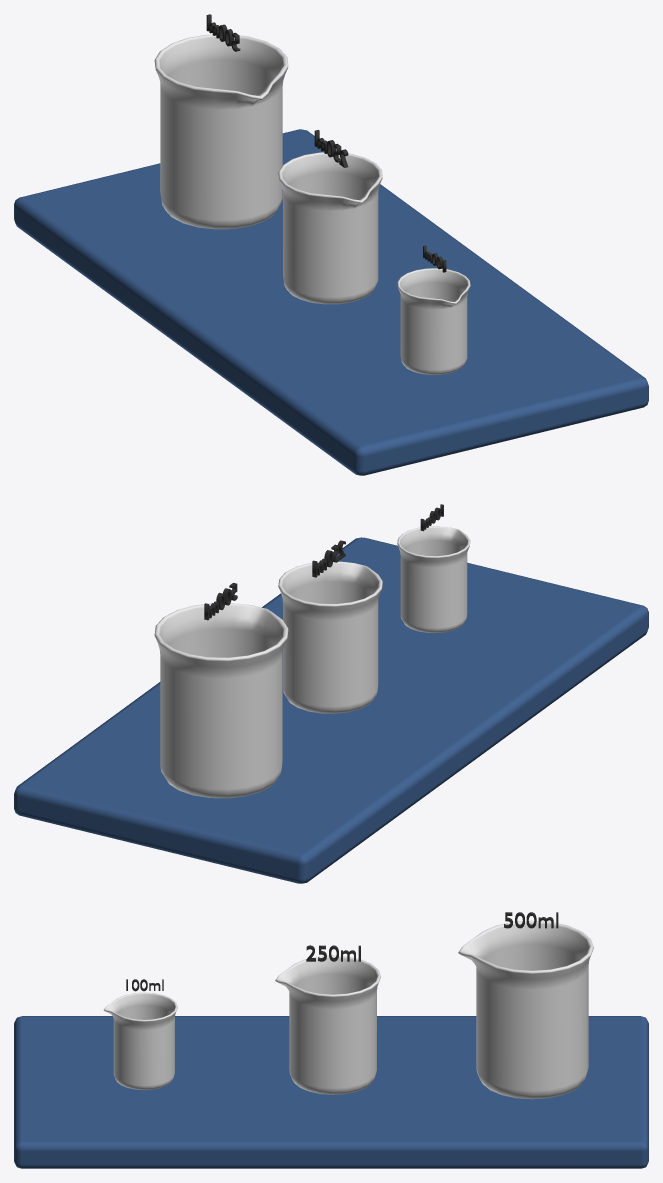
File: beakers.gltf
3 views of the same model, one above another, from view 1: azimuth 30°, elevation 25°; view 2: azimuth 150°, elevation 25°; view 3: azimuth 270°, elevation 25° (orthographic). The views are drawn at different scales.
Visible parts, largest first — view 1: Cube.001, beaker500mL, beaker250mL, beaker 100ml; view 2: Cube.001, beaker500mL, beaker250mL, beaker 100ml, Text.002, Text.001; view 3: Cube.001, beaker500mL, beaker250mL, beaker 100ml, Text.002, Text.001.
Part boxes in pixels (x1,y1,x2,y2): Cube.001: (14, 129, 648, 475); beaker500mL: (154, 34, 288, 229); beaker250mL: (278, 152, 382, 304); beaker 100ml: (397, 268, 470, 374); Cube.001: (14, 537, 648, 883); beaker500mL: (154, 603, 288, 798); beaker250mL: (278, 561, 382, 713); beaker 100ml: (397, 526, 470, 632); Text.002: (204, 583, 237, 620); Text.001: (312, 540, 345, 577); Cube.001: (14, 1016, 648, 1168); beaker500mL: (458, 920, 593, 1099); beaker250mL: (275, 955, 380, 1094); beaker 100ml: (103, 992, 177, 1090); Text.002: (504, 912, 558, 928); Text.001: (306, 945, 360, 961).
Size of the model in its own units: 0.8673 by 0.5966 by 1.77.
